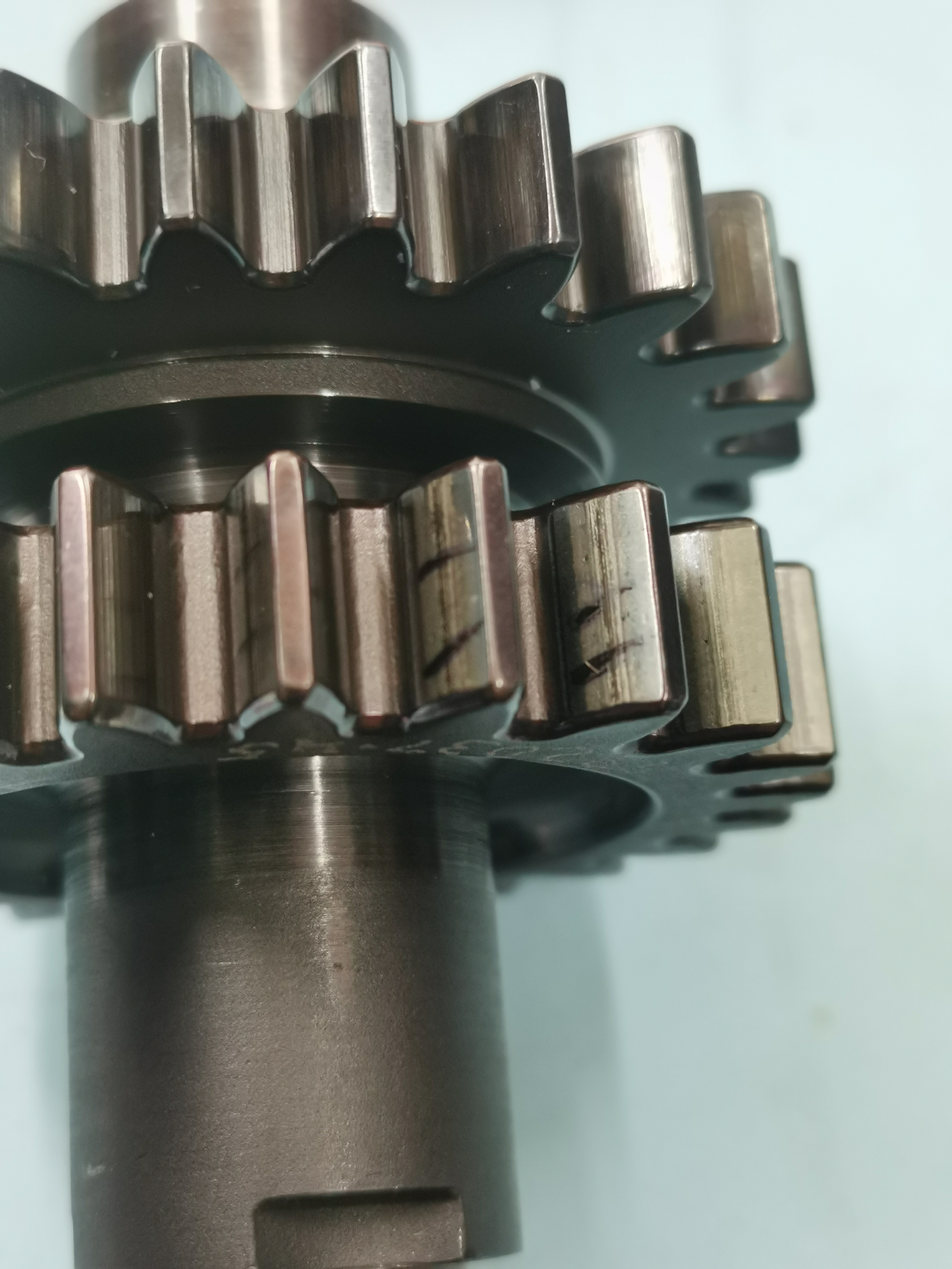Abrasion: (375, 442, 501, 730), (658, 512, 788, 748), (546, 480, 670, 725), (79, 459, 183, 731), (0, 58, 98, 293), (457, 63, 558, 284), (177, 35, 265, 279), (581, 120, 696, 305), (294, 39, 371, 269)
